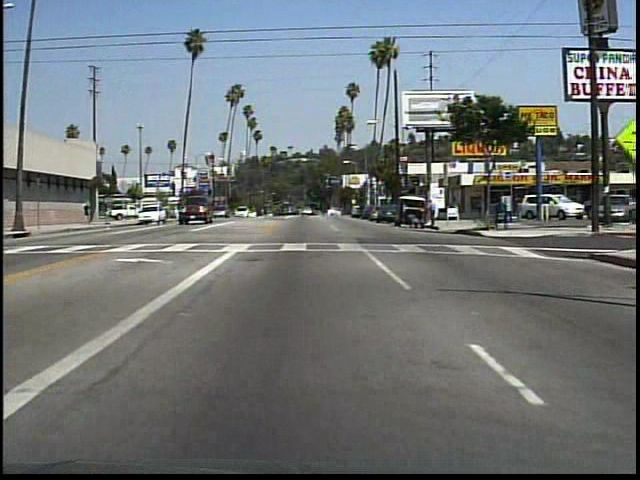person: (427, 197, 440, 231), (471, 193, 485, 221), (408, 213, 425, 231), (84, 199, 92, 227)
